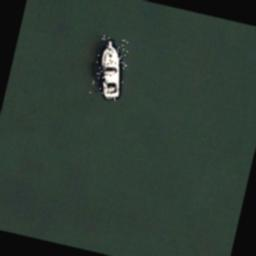boat: (88, 35, 132, 101)
